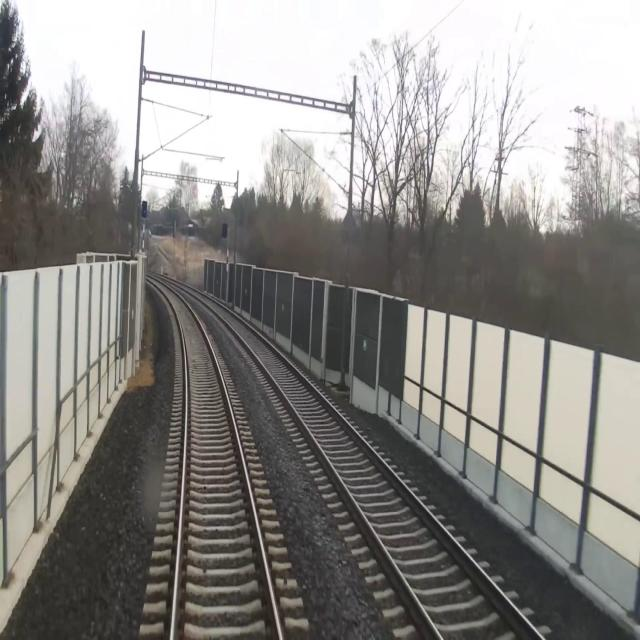rail-track: (176, 282, 539, 639), (151, 278, 278, 639)
